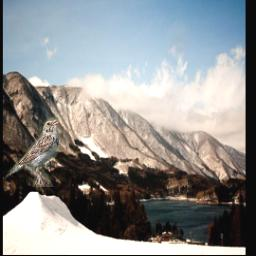Sparrow: (6, 117, 59, 188)
